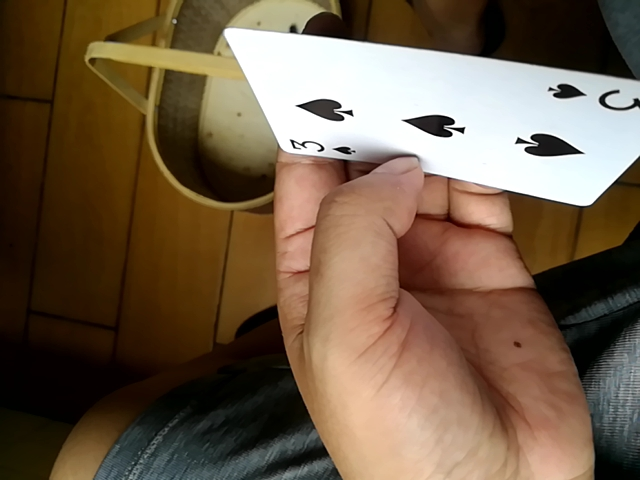ht 3: (225, 22, 635, 203)
